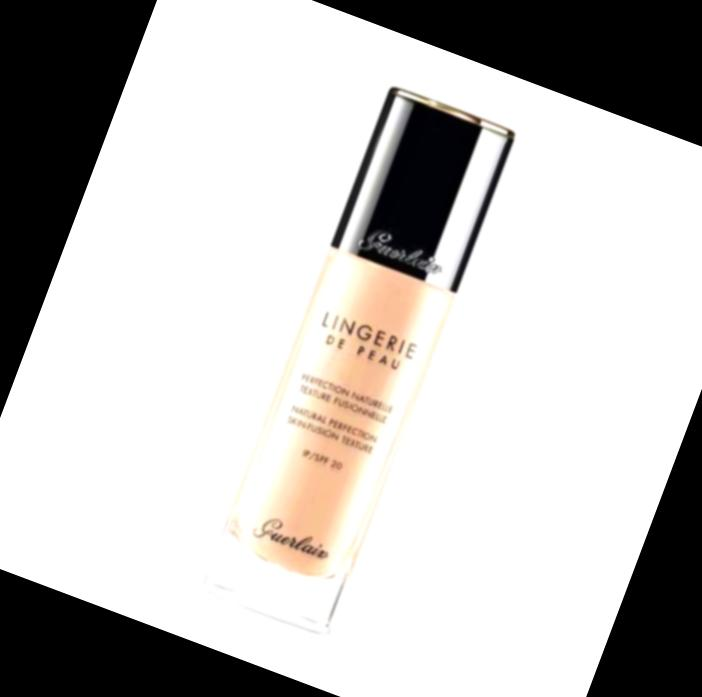cosmetic: (201, 82, 521, 636)
